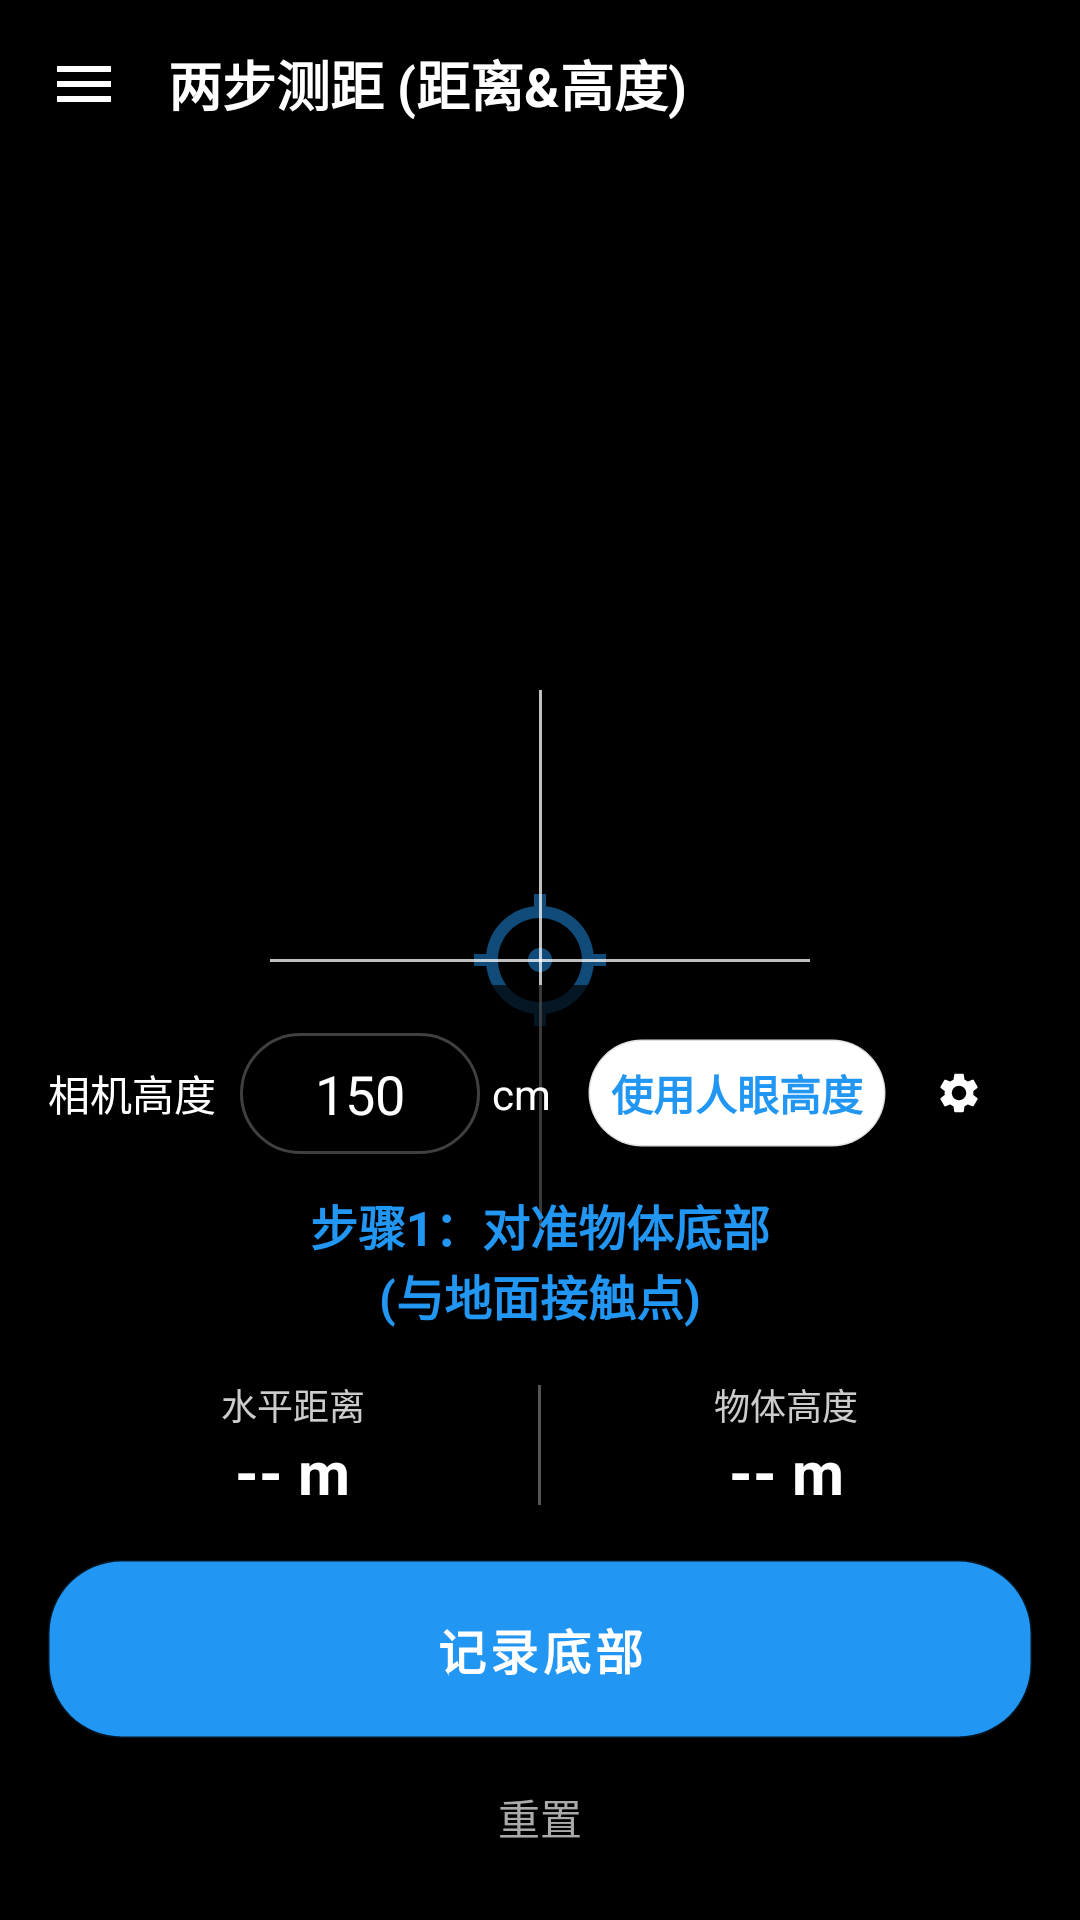

Point at icon controls on the screen. Image size 1080 × 1920, points as point (x, y).
crosshair dot: point (540, 960)
settings: point (959, 1093)
